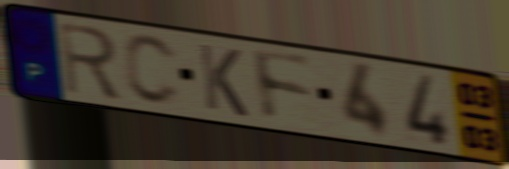4: (338, 59, 393, 142), (402, 71, 452, 148)
C: (121, 32, 184, 109)
F: (248, 45, 317, 125)
K: (196, 40, 251, 120)
R: (56, 19, 125, 103)
